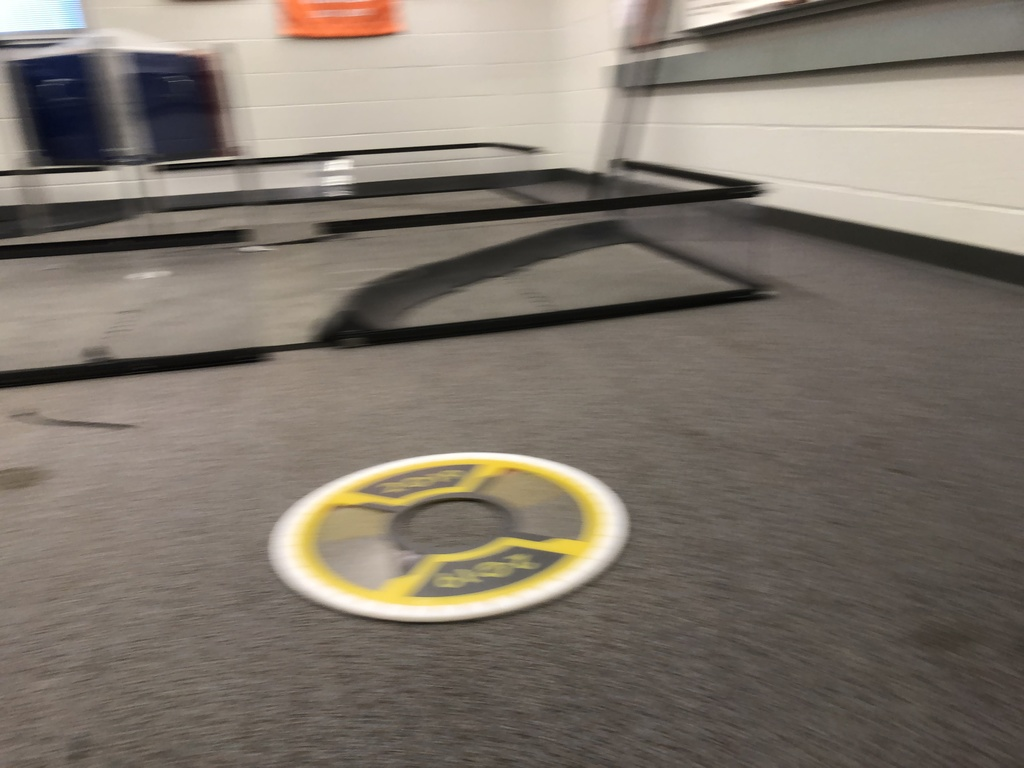hatch_panel: (250, 428, 632, 624)
